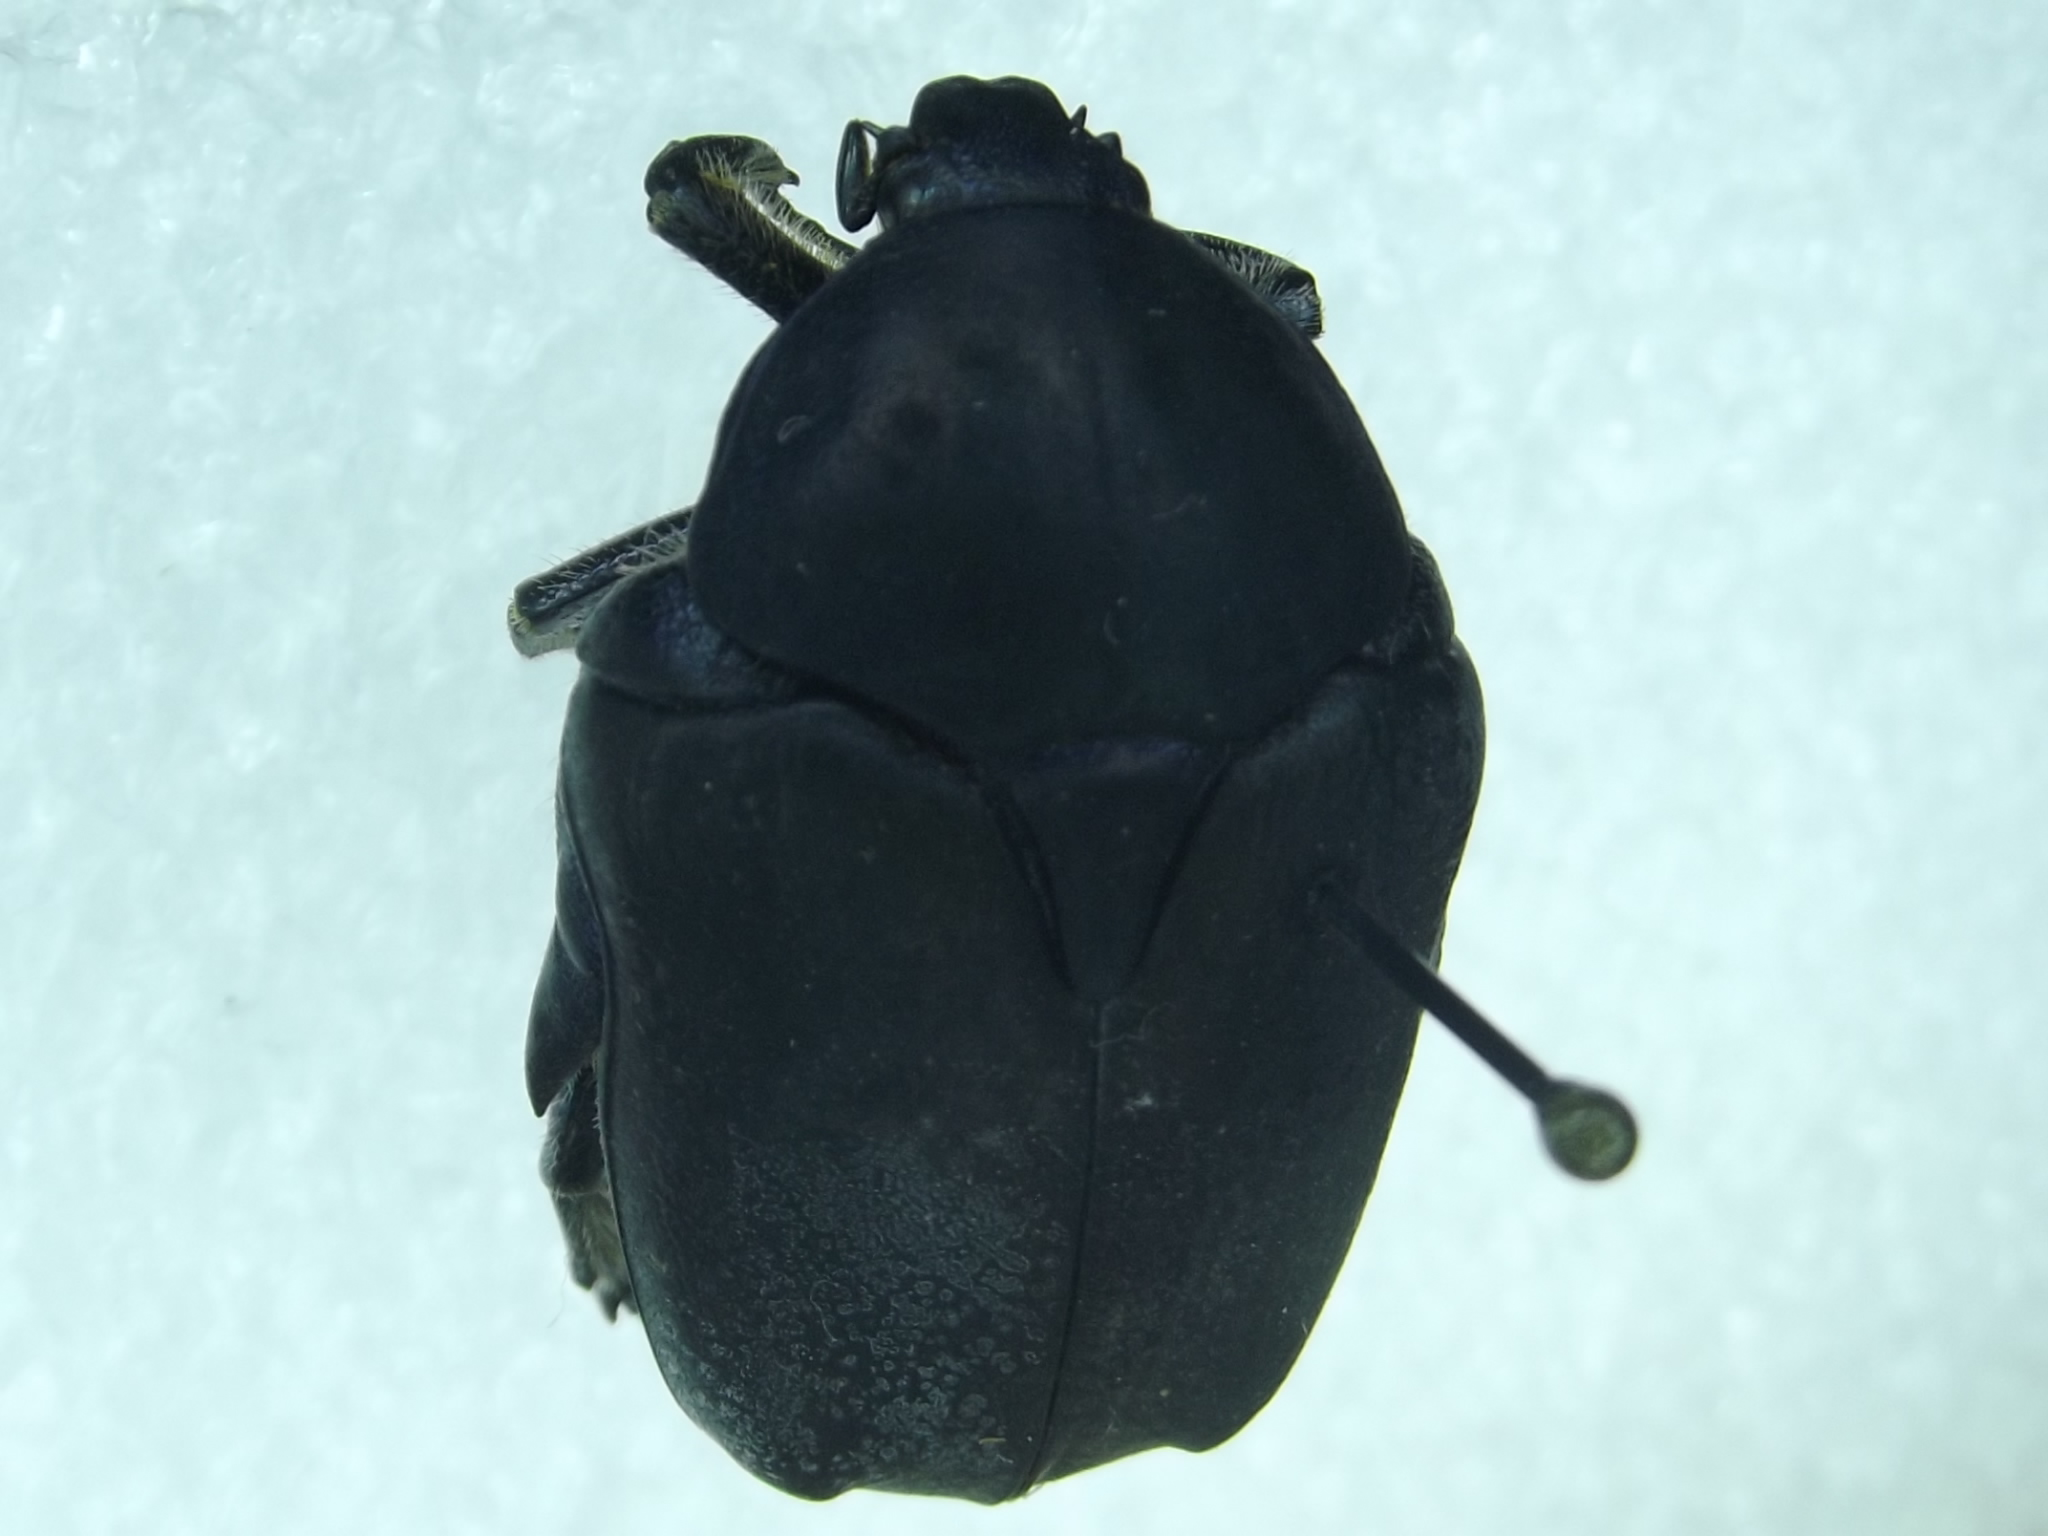Protaetia_afflicta: (481, 44, 1500, 1526)
